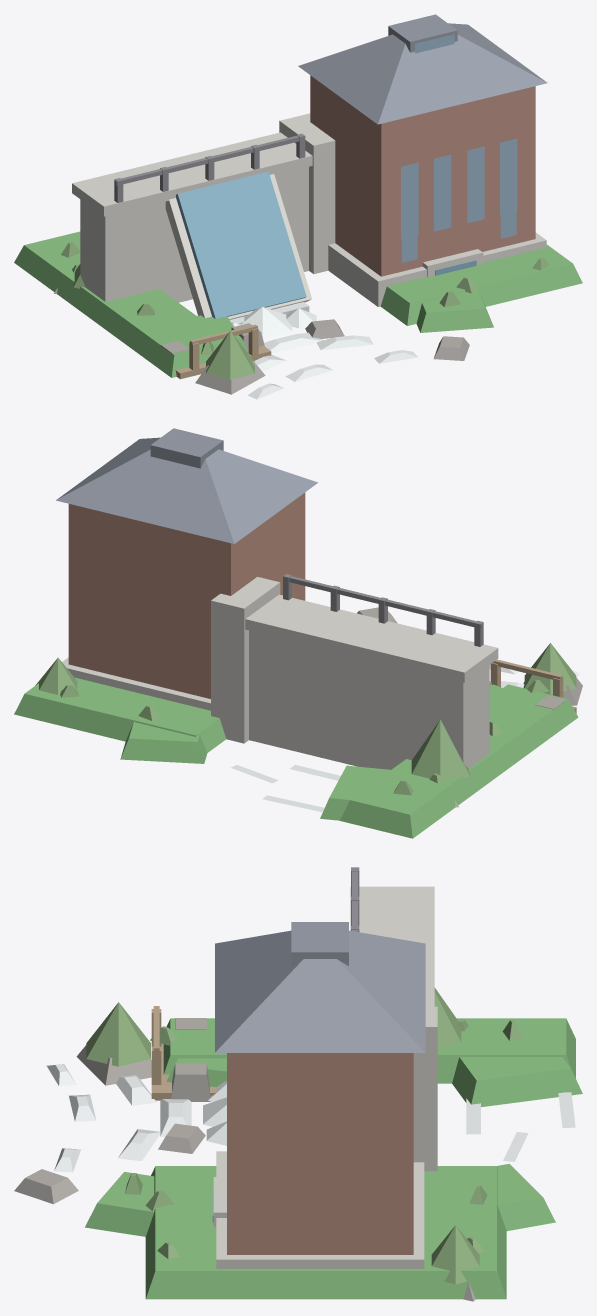
Rendered from Hidreletrica.fbx.
3 views of the same model, one above another, from view 1: azimuth 30°, elevation 25°; view 2: azimuth 150°, elevation 25°; view 3: azimuth 270°, elevation 25° (orthographic). The views are drawn at different scales.
Visible parts, largest first — view 1: Hidreletrica; view 2: Hidreletrica; view 3: Hidreletrica.
Boxes of the visible parts, bbox=[...] form: Hidreletrica: bbox=[14, 14, 582, 399]; Hidreletrica: bbox=[14, 428, 582, 838]; Hidreletrica: bbox=[14, 867, 582, 1301].
Bounding box in the file's own units: 1.04 × 0.554 × 0.9457.
